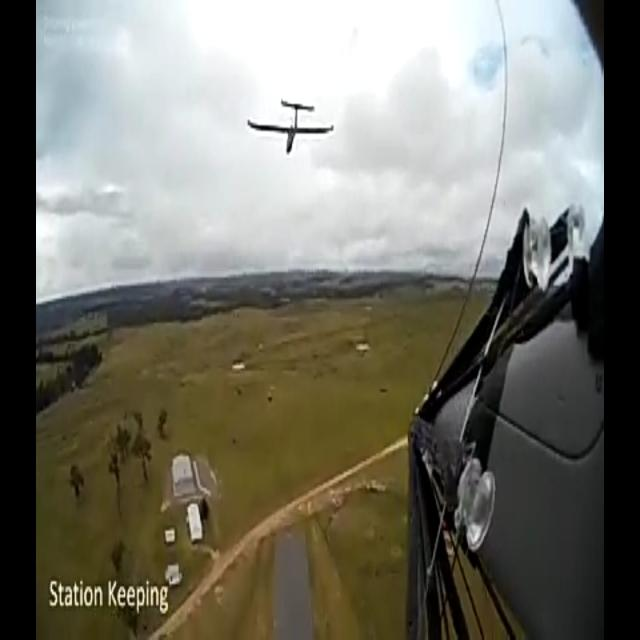iha: (278, 32, 303, 92)
